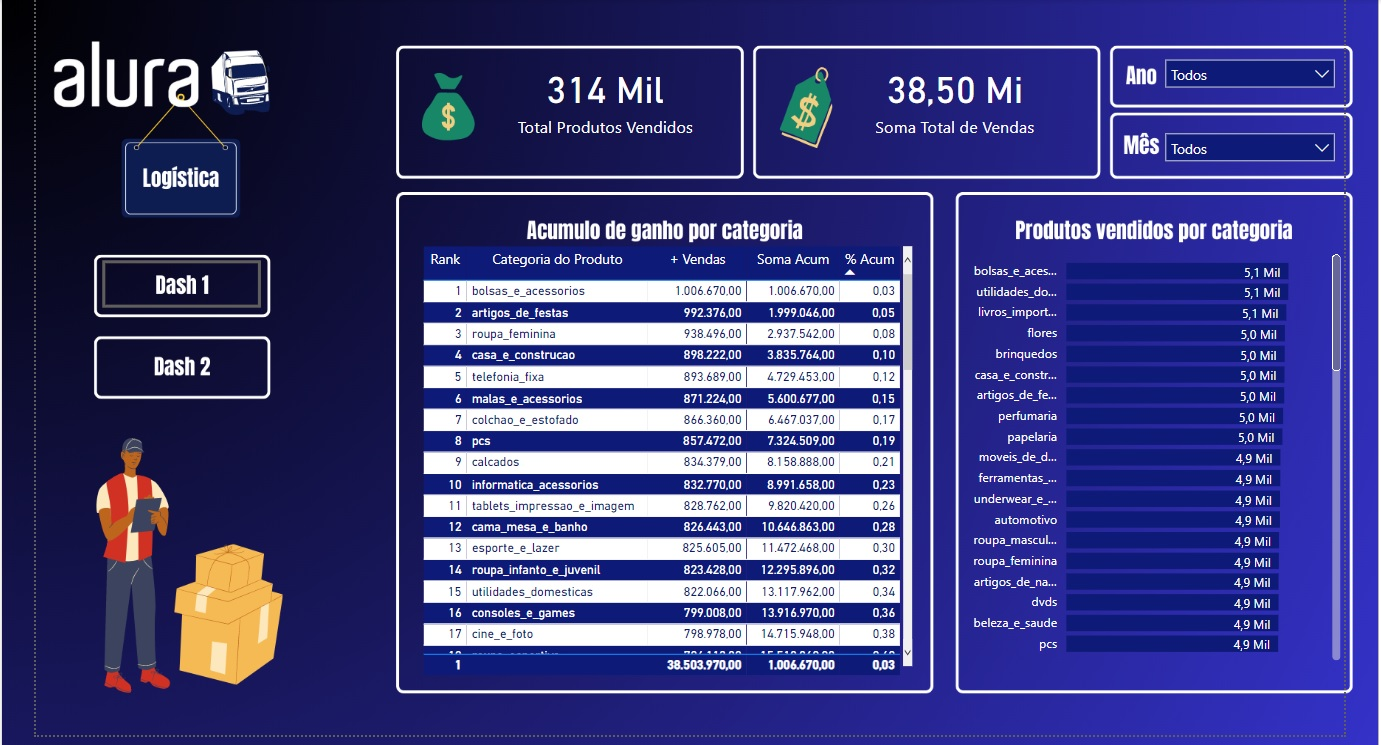

What the dashboard file says about the page in this screenshot:
{"tool":"powerbi","page":{"name":"Financeiro","canvas":[1280,720],"ordinal":1},"visuals":[{"type":"actionButton","box":[62.7,250,154.5,47.3],"z":0},{"type":"card","fields":{"Values":["Medidas.Soma de Vendas"]},"box":[792.7,48.2,212.7,98.2],"z":1000},{"type":"card","fields":{"Values":["Medidas.Qtd Produtos Vendidos"]},"box":[454.5,48.2,204.5,98.2],"z":2000},{"type":"slicer","fields":{"Values":["Pedidos.Data da compra.Variation.Hierarquia de datas.Ano"]},"box":[1093.6,41.8,186.4,49.1],"z":3000},{"type":"slicer","fields":{"Values":["Pedidos.Data da compra.Variation.Hierarquia de datas.Mês"]},"box":[1093.6,110.9,186.4,48.2],"z":4000},{"type":"tableEx","fields":{"Values":["Medidas.Rank de Categoria","Produtos.categoria_produto","Medidas.Soma de Vendas","Medidas.Soma Acum Categorias","Medidas.% Acum Categorias"]},"box":[368.2,237.3,489.1,429.1],"z":5000},{"type":"barChart","fields":{"Category":["Produtos.categoria_produto"],"Y":["Medidas.Qtd Produtos Vendidos"]},"box":[899.1,237.3,380.9,414.5],"z":6000}]}

Visuals, with their boxes on the page's 1280x720 design canvas (x1, y1, x2, y2). These are canvas units, not pixel positions in the 1381x745 screenshot, which may show the page scaled, cropped or inside an application window:
actionButton: locate(63, 250, 217, 297)
card - Medidas.Soma de Vendas: locate(793, 48, 1005, 146)
card - Medidas.Qtd Produtos Vendidos: locate(454, 48, 659, 146)
slicer - Pedidos.Data da compra.Variation.Hierarquia de datas.Ano: locate(1094, 42, 1280, 91)
slicer - Pedidos.Data da compra.Variation.Hierarquia de datas.Mês: locate(1094, 111, 1280, 159)
tableEx - Medidas.Rank de Categoria x Produtos.categoria_produto: locate(368, 237, 857, 666)
barChart - Produtos.categoria_produto x Medidas.Qtd Produtos Vendidos: locate(899, 237, 1280, 652)
